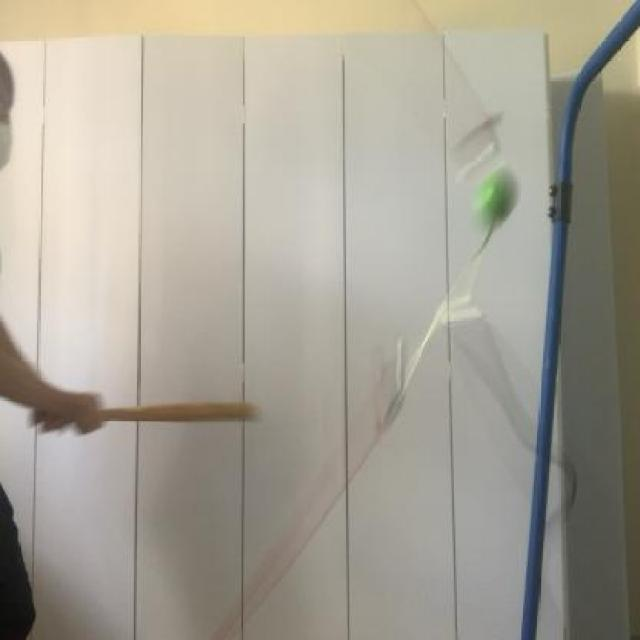baseball: (463, 164, 526, 238)
